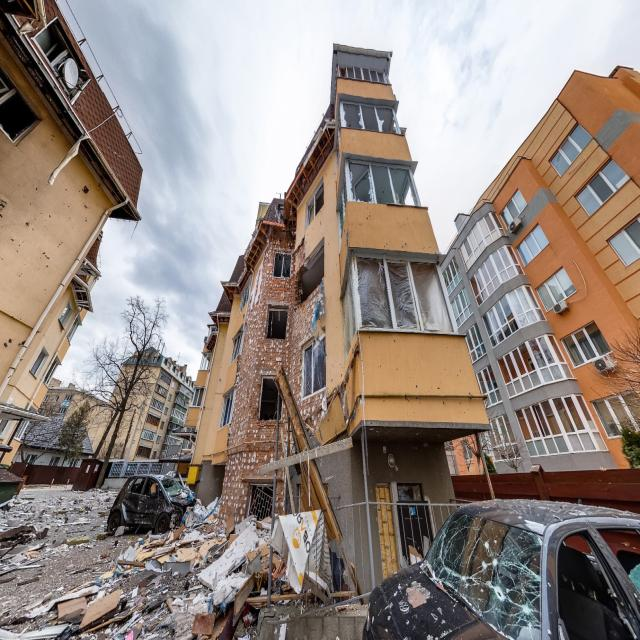broken_window: (300, 334, 326, 400), (258, 375, 283, 423), (265, 305, 288, 340)
building: (188, 41, 492, 604), (438, 64, 640, 497), (0, 0, 143, 472)
